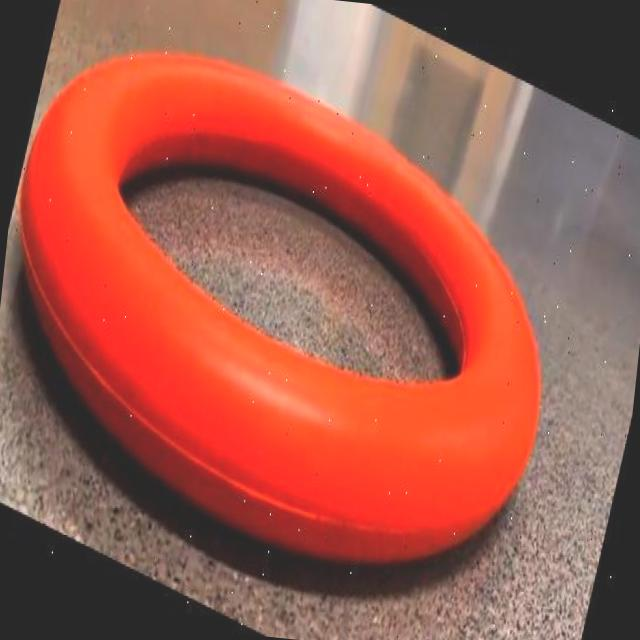note: (20, 54, 539, 563)
